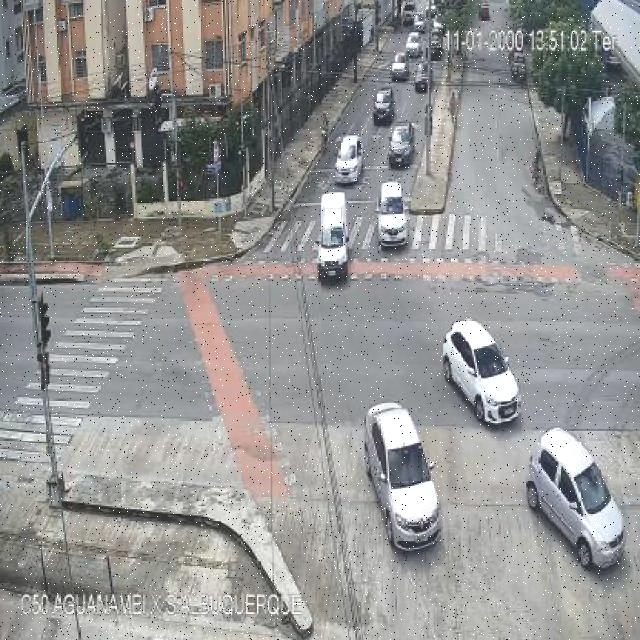Car: (522, 422, 630, 572), (362, 395, 448, 557), (442, 320, 528, 428), (376, 181, 407, 251), (333, 133, 362, 186), (386, 121, 416, 168), (371, 86, 397, 130), (390, 49, 410, 85), (414, 65, 431, 96), (404, 30, 422, 55)
Truck: (313, 192, 350, 281)
